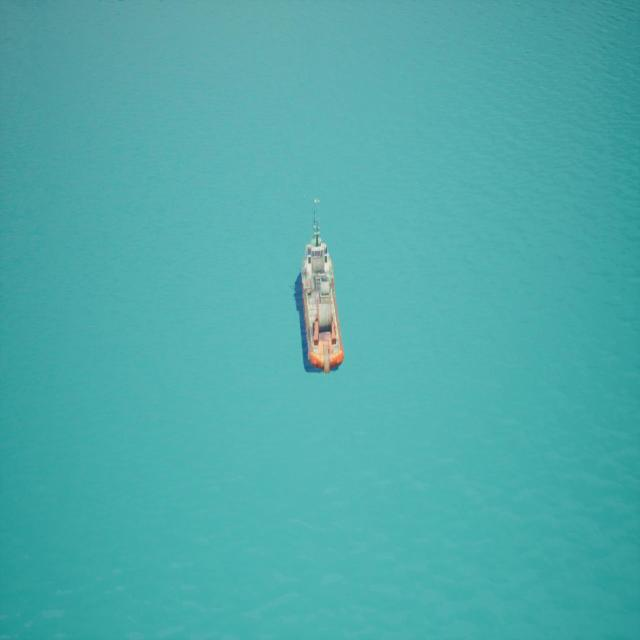tug boat: (293, 200, 347, 378)
